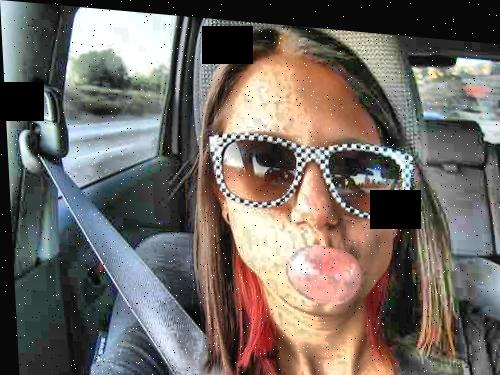seatbelt: (18, 139, 187, 338)
